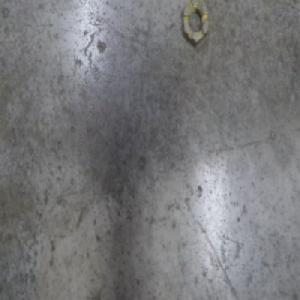Nut: (183, 0, 211, 47)
